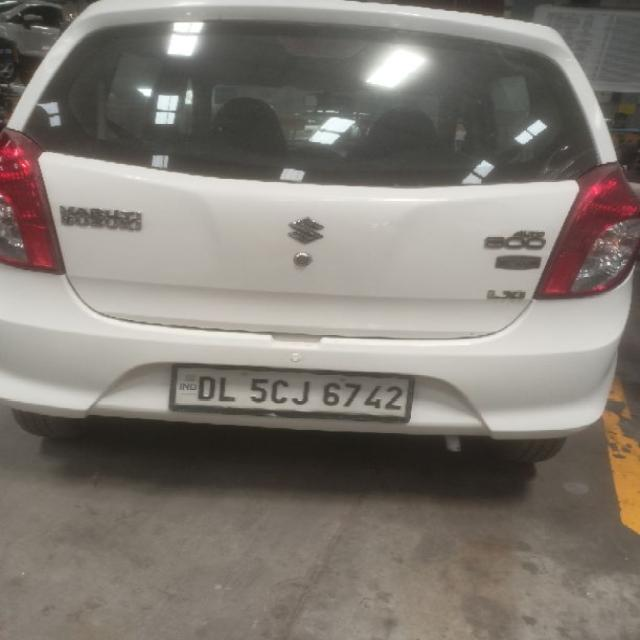license_plate: (167, 363, 414, 424)
